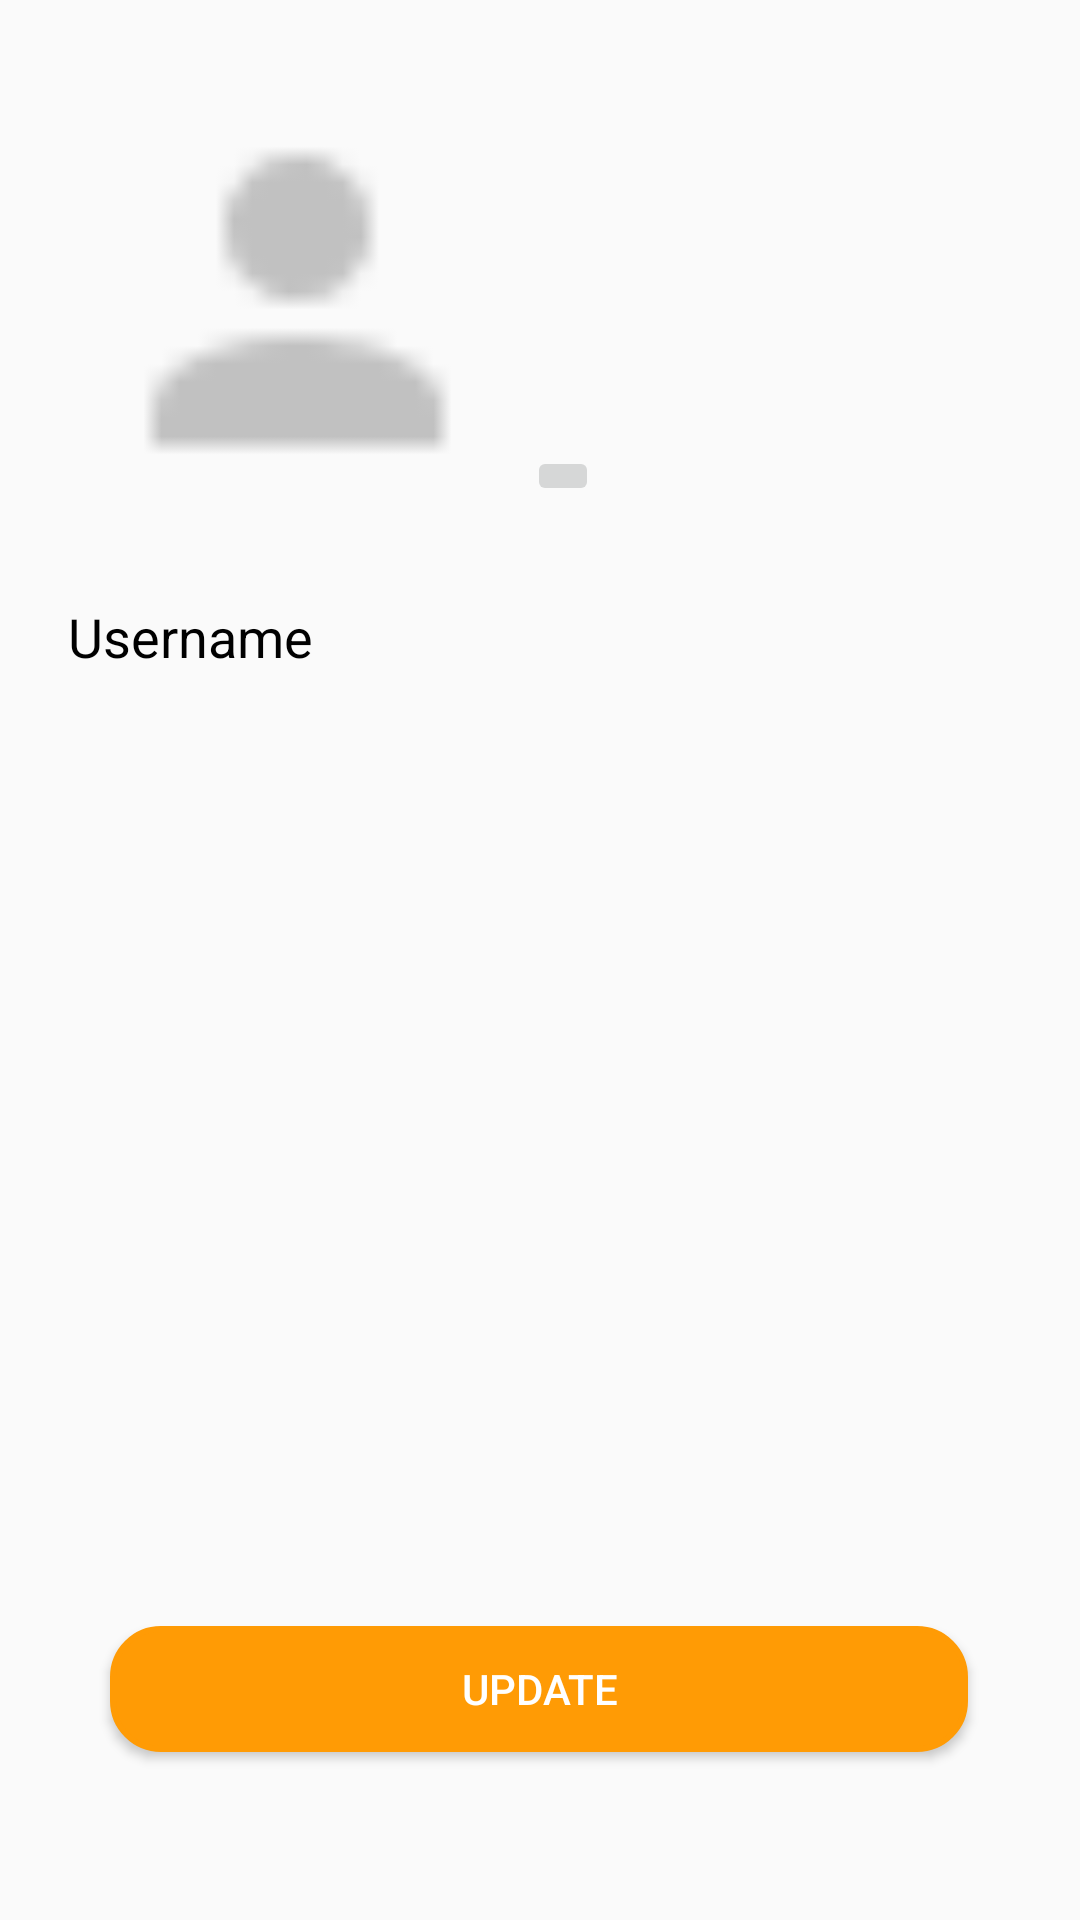

Icon click points for this 1080px x 1920px phone screenshot, format [x,y]:
empty user: [297,300]
